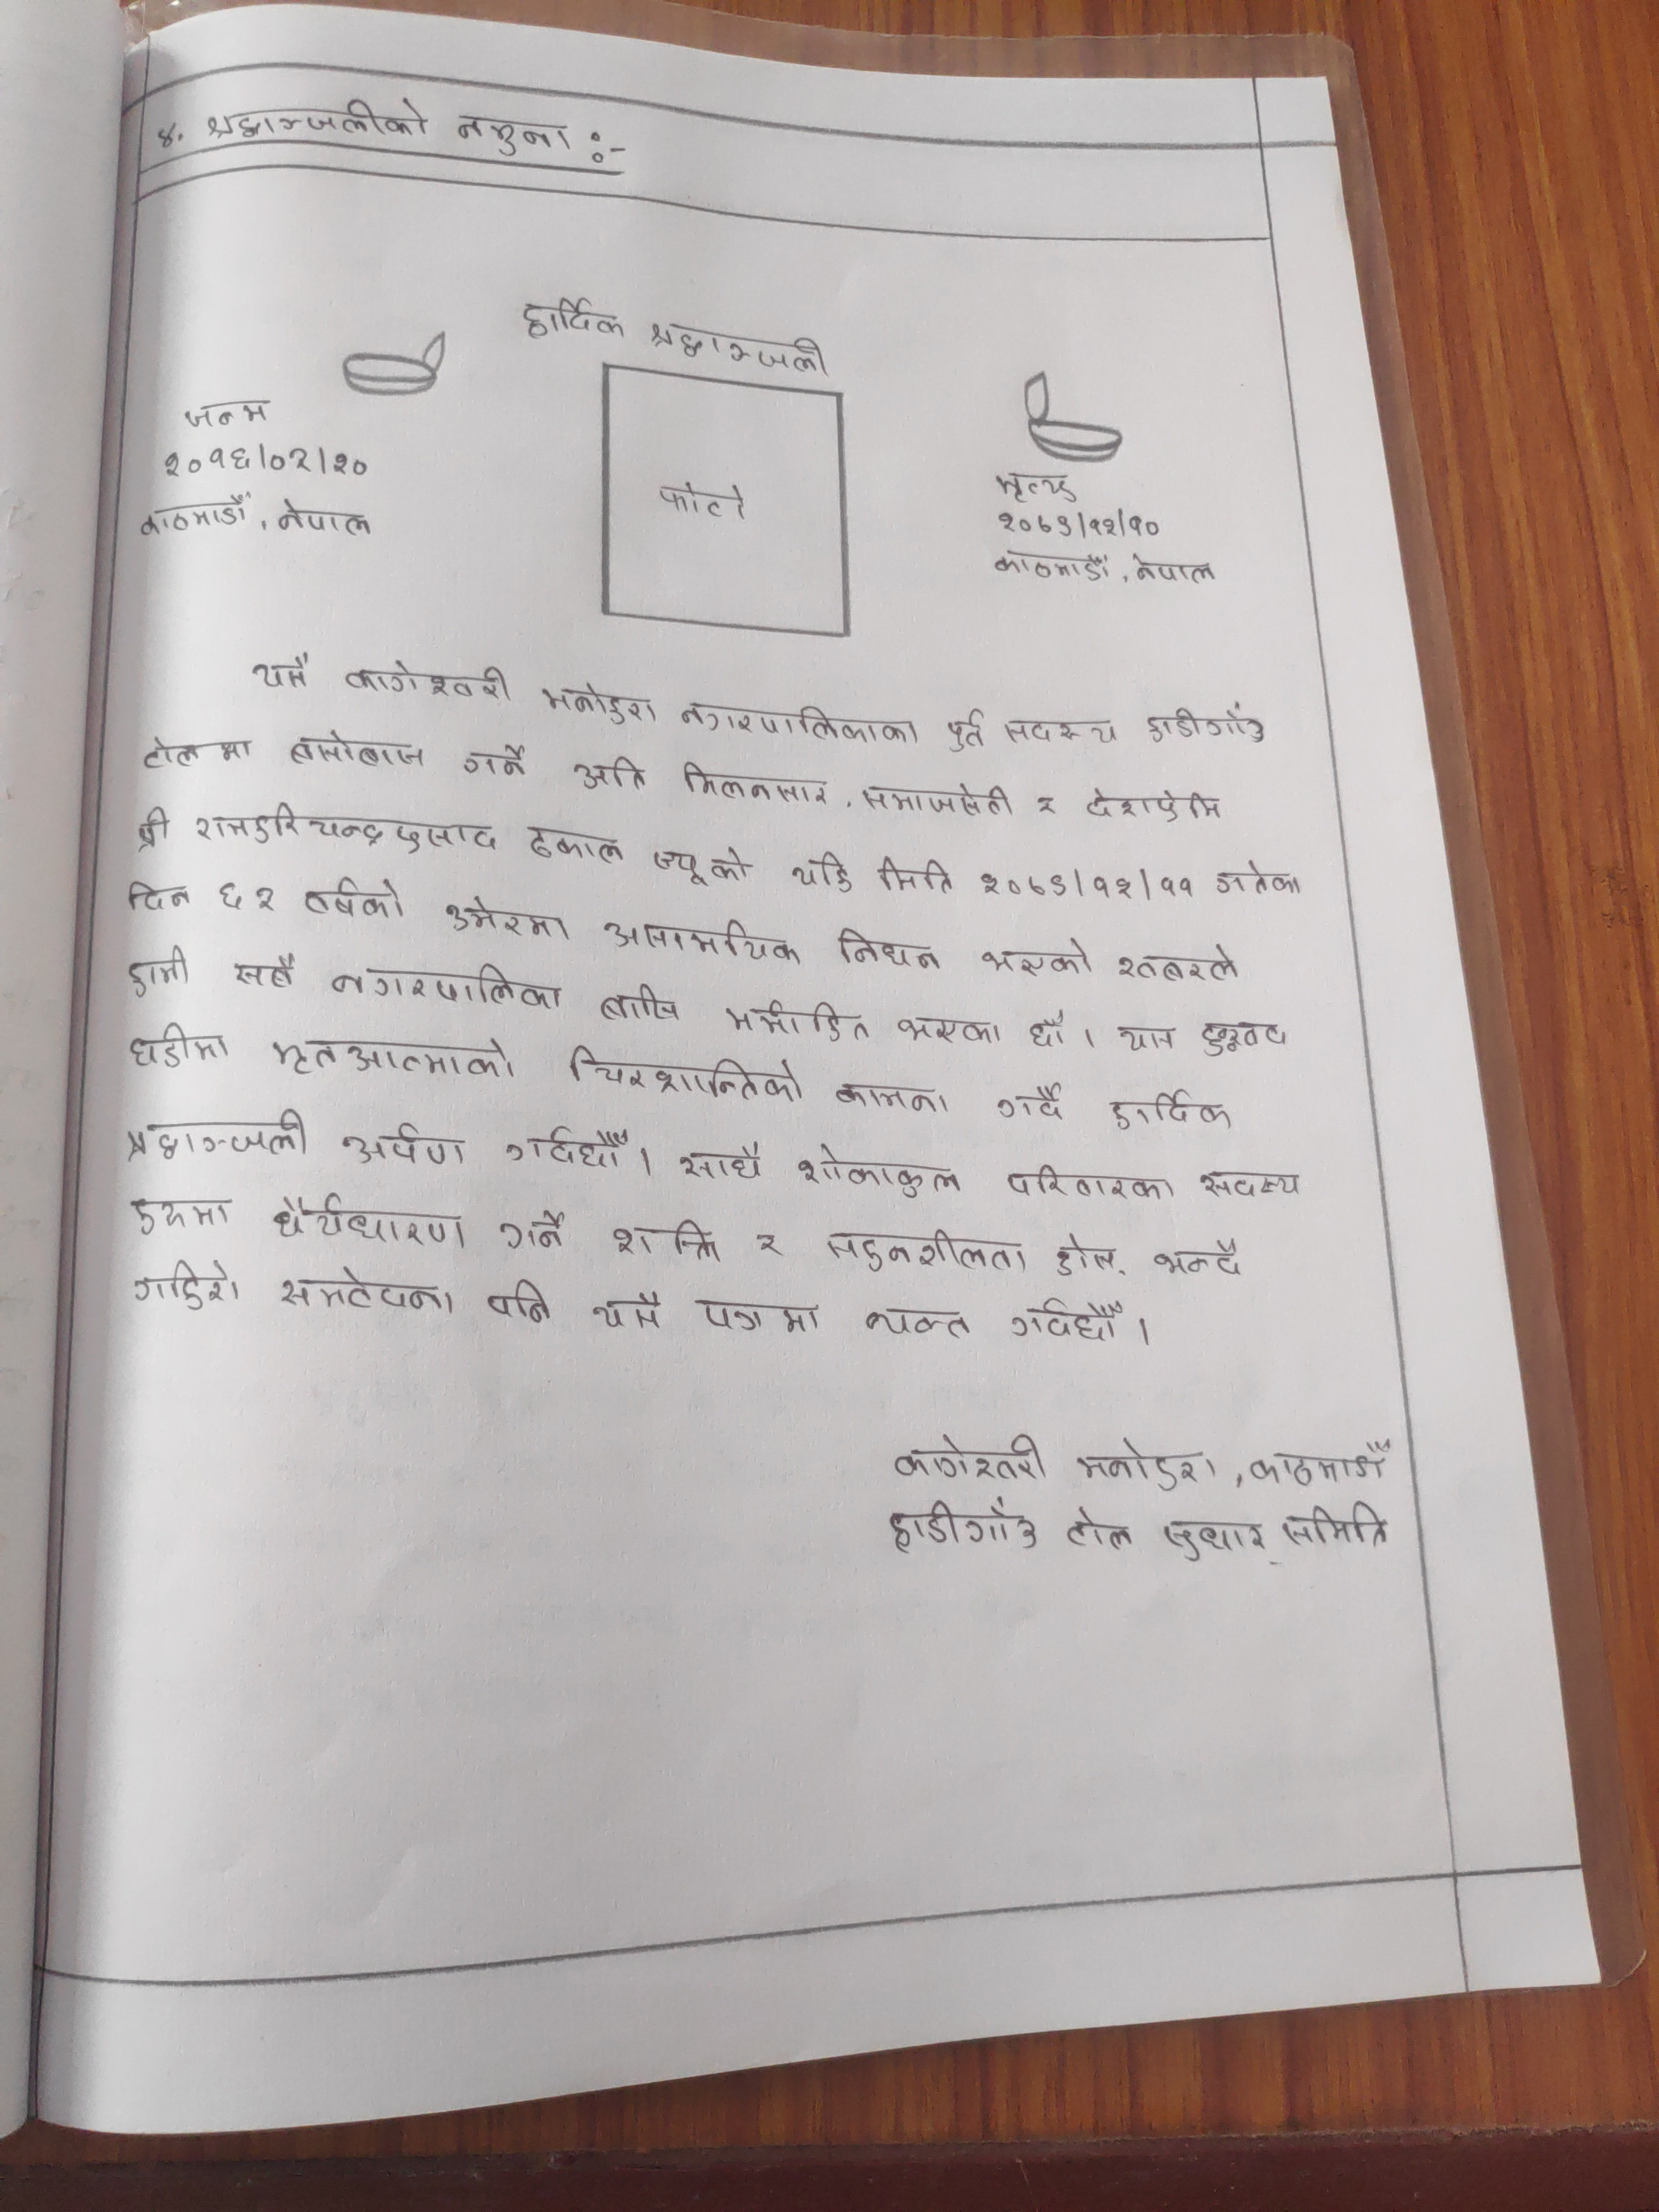text: (192, 803, 500, 860), (268, 1028, 519, 1089), (563, 1045, 809, 1104), (322, 960, 565, 1015), (676, 700, 924, 747), (647, 317, 831, 380), (601, 916, 805, 970), (202, 94, 434, 141), (277, 1191, 472, 1247), (823, 1226, 1030, 1278), (125, 1109, 317, 1163), (972, 862, 1201, 907), (795, 1143, 967, 1202), (277, 1263, 457, 1318), (150, 441, 371, 482), (882, 1498, 1042, 1555), (342, 657, 518, 707), (894, 1432, 1047, 1487), (1075, 1437, 1223, 1489), (1249, 1439, 1403, 1487), (1002, 1163, 1180, 1205), (443, 890, 575, 944), (676, 763, 833, 806), (721, 1000, 871, 1045), (132, 1259, 247, 1317), (993, 502, 1173, 538), (288, 728, 429, 773), (132, 489, 254, 542), (859, 780, 1018, 820), (1107, 1090, 1244, 1136), (1277, 1501, 1396, 1554), (345, 1123, 471, 1172), (516, 293, 629, 347), (695, 1292, 828, 1338), (537, 679, 659, 728), (450, 111, 573, 158), (1141, 704, 1274, 747), (1075, 786, 1229, 822), (1007, 1298, 1126, 1345), (509, 1127, 636, 1170), (993, 540, 1114, 585), (296, 876, 411, 923), (828, 1075, 946, 1120), (608, 1219, 725, 1264), (122, 1193, 234, 1240), (1115, 944, 1244, 984), (833, 923, 943, 970), (648, 840, 753, 888), (521, 824, 627, 869), (1143, 1238, 1253, 1282), (976, 941, 1100, 979), (1154, 1521, 1270, 1561), (653, 477, 749, 526), (124, 1024, 225, 1069), (894, 1010, 1007, 1050), (268, 493, 376, 535), (859, 1303, 974, 1341), (1004, 712, 1122, 749), (138, 735, 261, 770), (592, 984, 687, 1029), (673, 1139, 767, 1183), (1194, 1019, 1293, 1059), (122, 948, 195, 1001), (1192, 1165, 1304, 1200), (568, 751, 650, 798), (176, 395, 284, 430), (591, 1287, 666, 1336), (1060, 1503, 1134, 1552), (1047, 1233, 1122, 1278), (995, 1076, 1066, 1123), (873, 853, 957, 894), (786, 850, 859, 894), (988, 470, 1084, 503), (1208, 862, 1304, 895), (1129, 552, 1223, 585), (486, 1278, 547, 1327), (460, 740, 538, 777), (500, 1209, 572, 1249), (251, 648, 315, 690), (230, 953, 303, 989), (122, 878, 195, 913), (1115, 1019, 1180, 1052), (945, 709, 992, 754), (1021, 1010, 1072, 1050), (132, 803, 176, 848), (214, 883, 279, 911), (153, 117, 183, 157), (1032, 786, 1060, 820), (753, 1231, 784, 1261)
